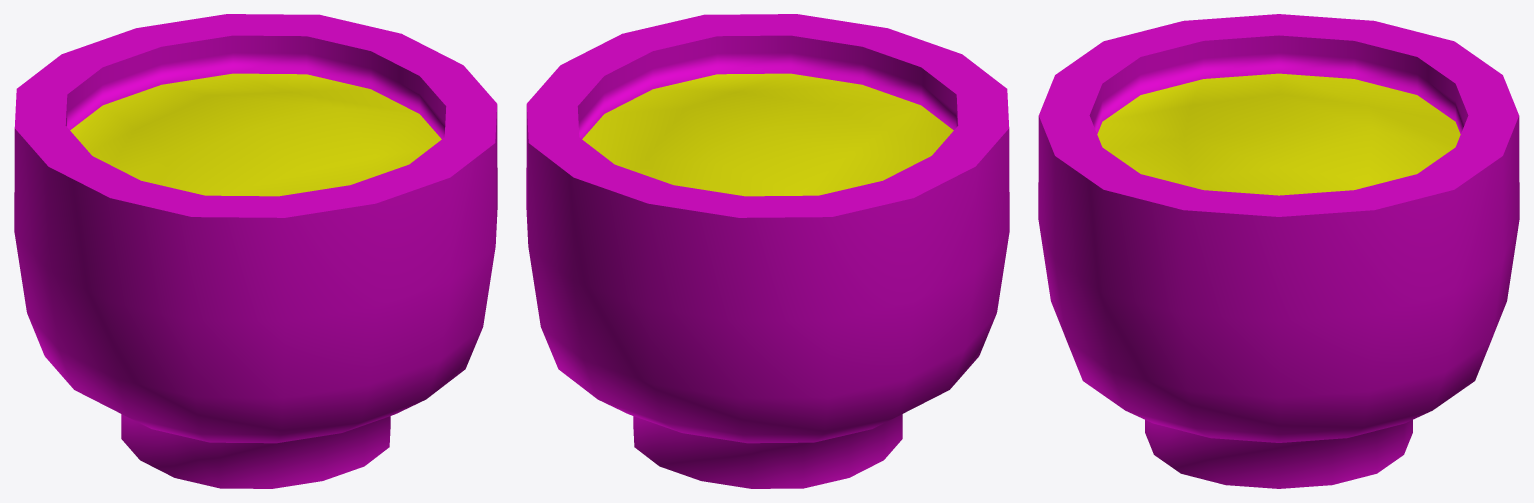
File: SM_Snaccbowl.fbx
The picture shows the model from 3 angles, left to right: view 1: azimuth 30°, elevation 25°; view 2: azimuth 150°, elevation 25°; view 3: azimuth 270°, elevation 25°; orthographic projection.
Parts seen in each view (by area): view 1: SM_snaccbowl; view 2: SM_snaccbowl; view 3: SM_snaccbowl.
Boxes of the visible parts, x1,y1,x2,y2 form: SM_snaccbowl: [14, 14, 497, 488]; SM_snaccbowl: [526, 14, 1009, 488]; SM_snaccbowl: [1038, 14, 1519, 488].
Bounding box in the file's own units: 131 × 95.28 × 131.
